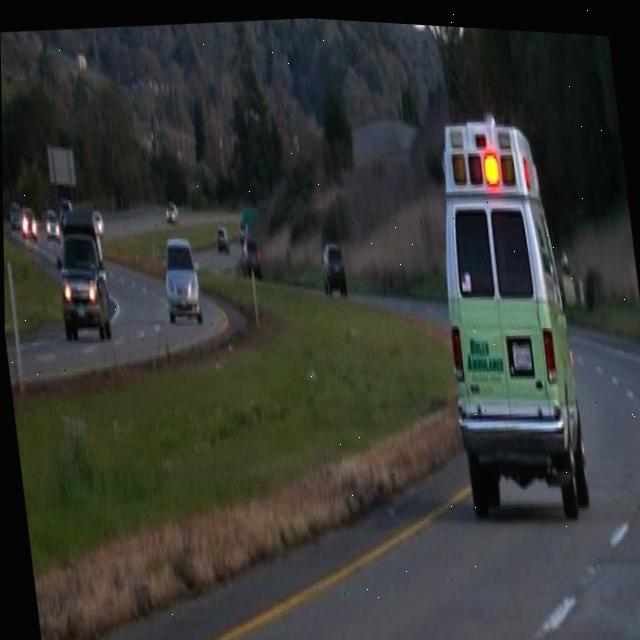emergency: (416, 97, 598, 525)
